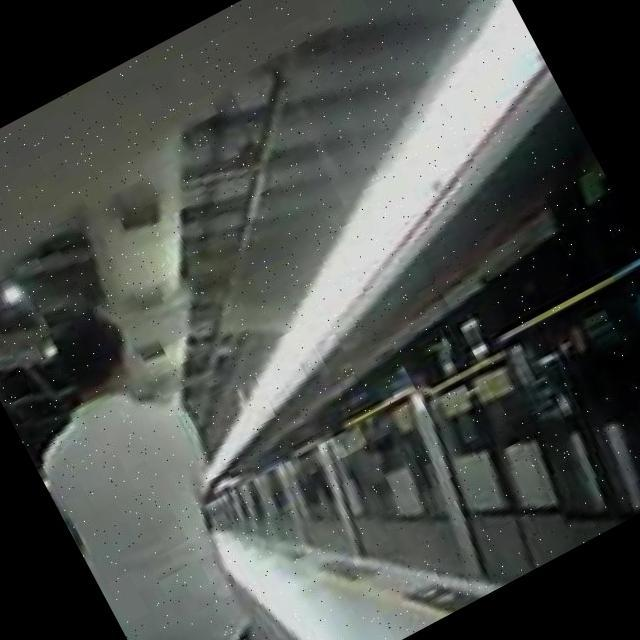person: (0, 288, 333, 640)
